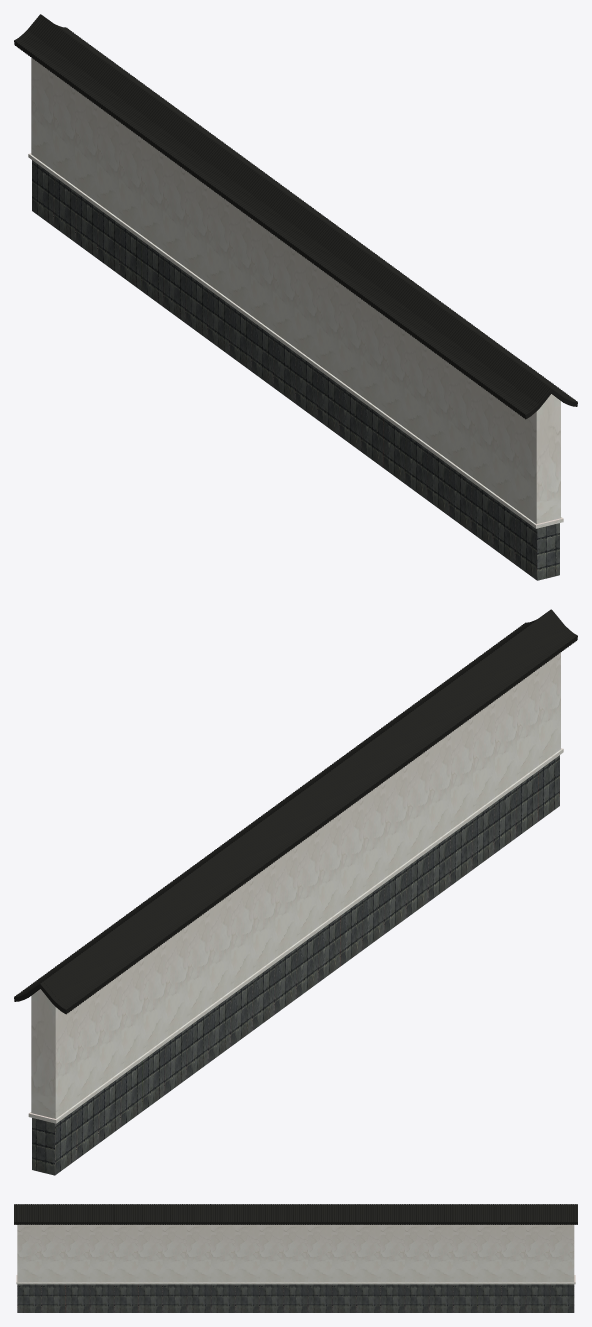
The model's file is Wall.fbx.
3 views of the same model, one above another, from view 1: azimuth 30°, elevation 25°; view 2: azimuth 150°, elevation 25°; view 3: azimuth 270°, elevation 25° (orthographic). The views are drawn at different scales.
Parts seen in each view (by area): view 1: Cube.267, Cube.256, Cube.251, Cube.257, Cube.258, Cube.049, Cube.068, Cube.249, Cube.078, Cube.140, Cube.250, Cube.255 (+34 smaller); view 2: Cube.266, Cube.252, Cube.254, Cube.255, Cube.260, Cube.261, Cube.262, Cube.250, Cube.253, Cube.259, Cube.251, Cube.256 (+34 smaller); view 3: Cube.266, Cube.267, Cube.252, Cube.258, Cube.049, Cube.068, Cube.078, Cube.140, Cube.249, Cube.253, Cube.257, Cube.259 (+34 smaller).
Part boxes in pixels (<box>): Cube.267: <box>513,394,563,580</box>; Cube.256: <box>293,250,317,419</box>; Cube.251: <box>359,298,383,467</box>; Cube.257: <box>315,266,339,435</box>; Cube.258: <box>337,282,361,451</box>; Cube.049: <box>491,395,515,564</box>; Cube.068: <box>469,379,493,548</box>; Cube.249: <box>403,331,427,499</box>; Cube.078: <box>447,363,471,531</box>; Cube.140: <box>425,347,449,515</box>; Cube.250: <box>381,314,405,483</box>; Cube.255: <box>271,234,295,403</box>; Cube.266: <box>28,989,79,1175</box>; Cube.252: <box>230,877,254,1046</box>; Cube.254: <box>274,845,298,1014</box>; Cube.255: <box>296,829,320,998</box>; Cube.260: <box>186,909,210,1078</box>; Cube.261: <box>164,925,189,1094</box>; Cube.262: <box>142,941,167,1110</box>; Cube.250: <box>406,749,430,917</box>; Cube.253: <box>252,861,276,1030</box>; Cube.259: <box>208,893,232,1062</box>; Cube.251: <box>384,765,408,934</box>; Cube.256: <box>318,813,342,982</box>; Cube.266: <box>550,1224,575,1312</box>; Cube.267: <box>16,1224,41,1312</box>; Cube.252: <box>356,1224,380,1312</box>; Cube.258: <box>211,1224,235,1312</box>; Cube.049: <box>41,1224,65,1312</box>; Cube.068: <box>65,1224,89,1312</box>; Cube.078: <box>90,1224,114,1312</box>; Cube.140: <box>114,1224,138,1312</box>; Cube.249: <box>138,1224,162,1312</box>; Cube.253: <box>332,1224,356,1312</box>; Cube.257: <box>235,1224,259,1312</box>; Cube.259: <box>380,1224,404,1312</box>.
Size of the model in its own units: 138 by 482 by 2329.
